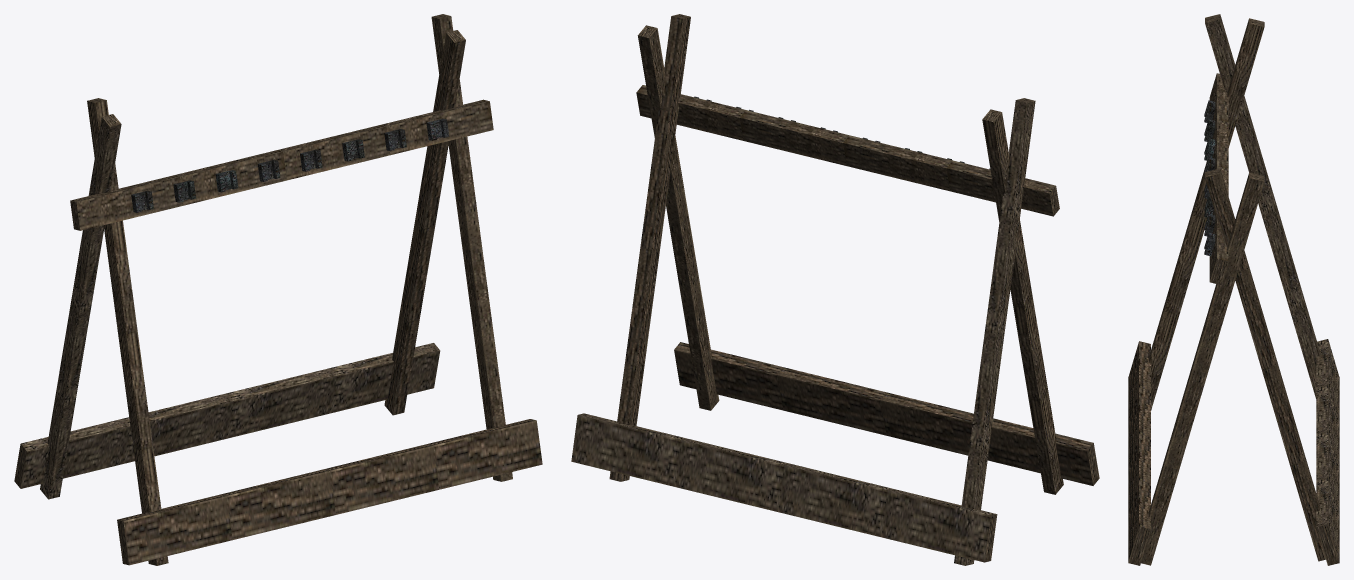
Rendered from Weapon Holder.fbx.
3 renders of one model, left to right at view 1: azimuth 30°, elevation 25°; view 2: azimuth 150°, elevation 25°; view 3: azimuth 270°, elevation 25°, orthographic. The views are drawn at different scales.
Visible parts, largest first — view 1: Weapon Holder; view 2: Weapon Holder; view 3: Weapon Holder.
Part boxes in pixels (x1,y1,x2,y2): Weapon Holder: [14, 14, 542, 565]; Weapon Holder: [571, 14, 1099, 565]; Weapon Holder: [1128, 14, 1339, 565].
Bounding box in the file's own units: 1.72 × 1.66 × 0.8216.
